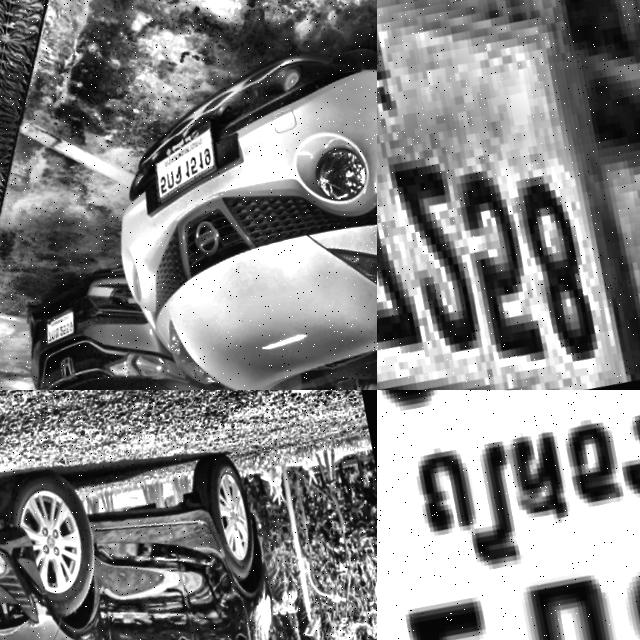license-plate: (377, 0, 640, 390), (377, 390, 640, 640), (143, 112, 231, 206), (43, 305, 87, 346)
